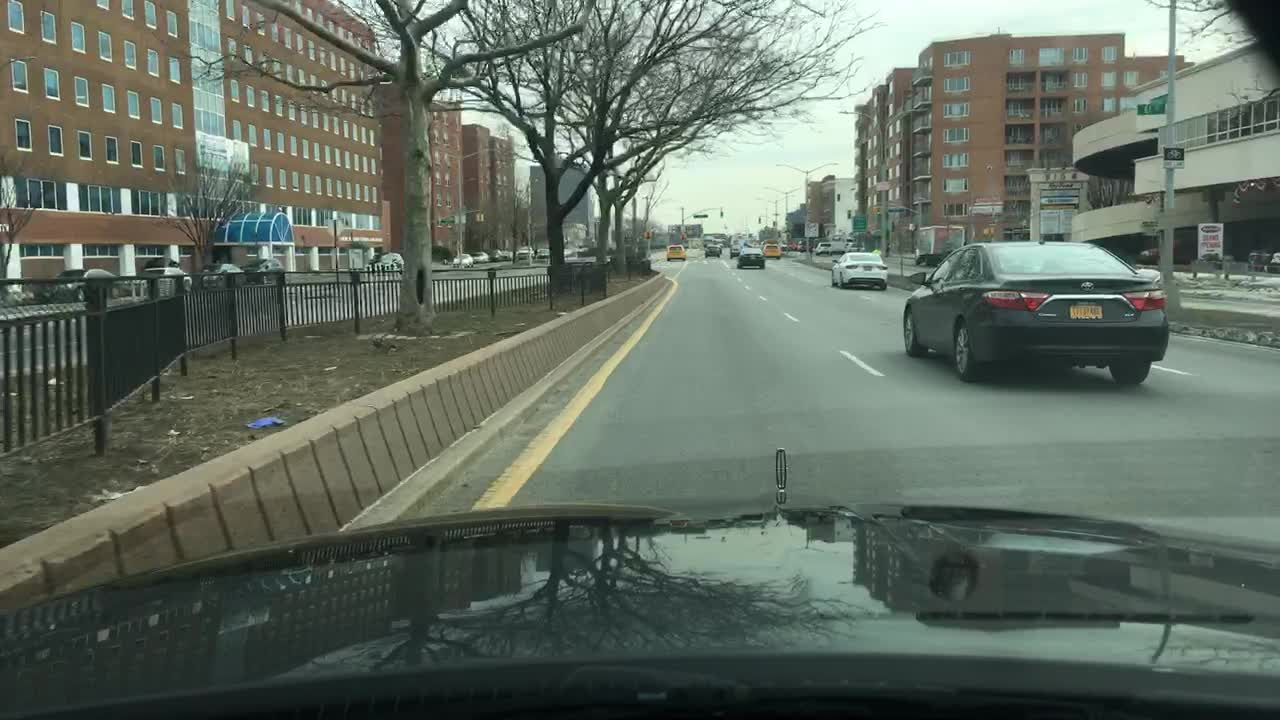car: (898, 238, 1172, 381), (32, 267, 121, 299), (828, 252, 887, 291), (144, 262, 188, 289), (1136, 245, 1187, 263), (202, 262, 243, 277), (239, 257, 279, 272), (734, 247, 763, 267), (366, 253, 400, 267), (665, 242, 685, 264), (514, 244, 534, 263), (467, 252, 489, 267), (701, 242, 719, 260), (761, 242, 781, 257), (454, 254, 472, 270), (497, 249, 515, 262), (484, 249, 499, 264), (728, 244, 743, 257), (561, 243, 573, 255), (535, 247, 546, 258)
traffic light: (718, 207, 726, 218), (845, 210, 852, 222)
traffic sign: (1160, 148, 1185, 167), (803, 219, 818, 235), (1135, 104, 1159, 114), (434, 217, 456, 227), (1145, 92, 1166, 102), (853, 213, 864, 230), (887, 205, 905, 215), (451, 215, 466, 224), (692, 212, 707, 218)
truck: (816, 239, 829, 253), (728, 237, 744, 242)
